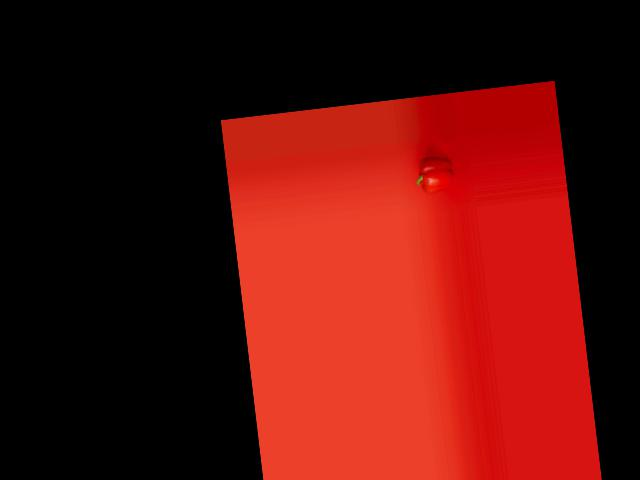bell_pepper: (412, 152, 457, 193)
